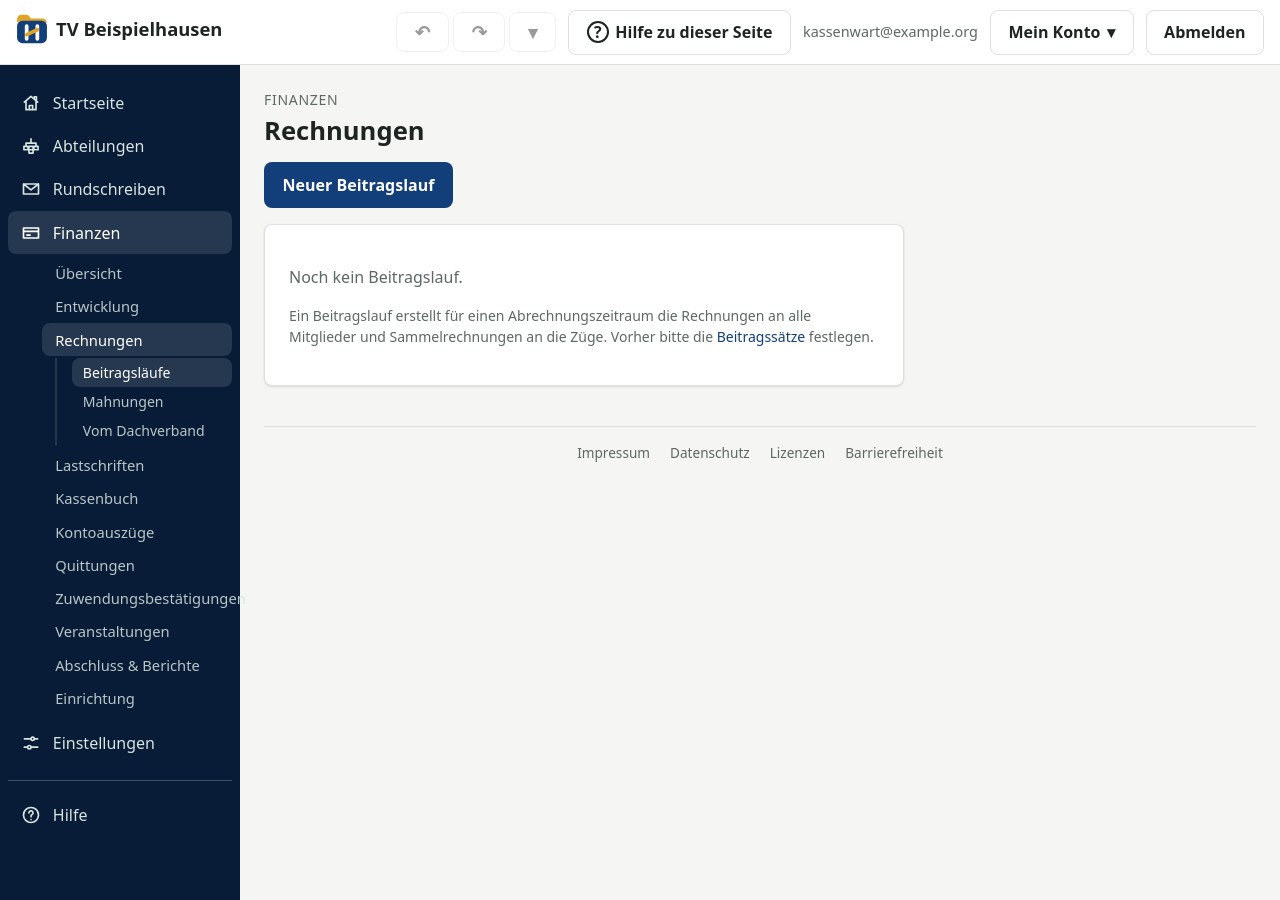
Test case: Beiträge › berechnet die Vorschau eines Beitragslaufs und legt ihn an
Click the button "Neuer Beitragslauf" at coordinates (358, 185), box [264,162,453,208]
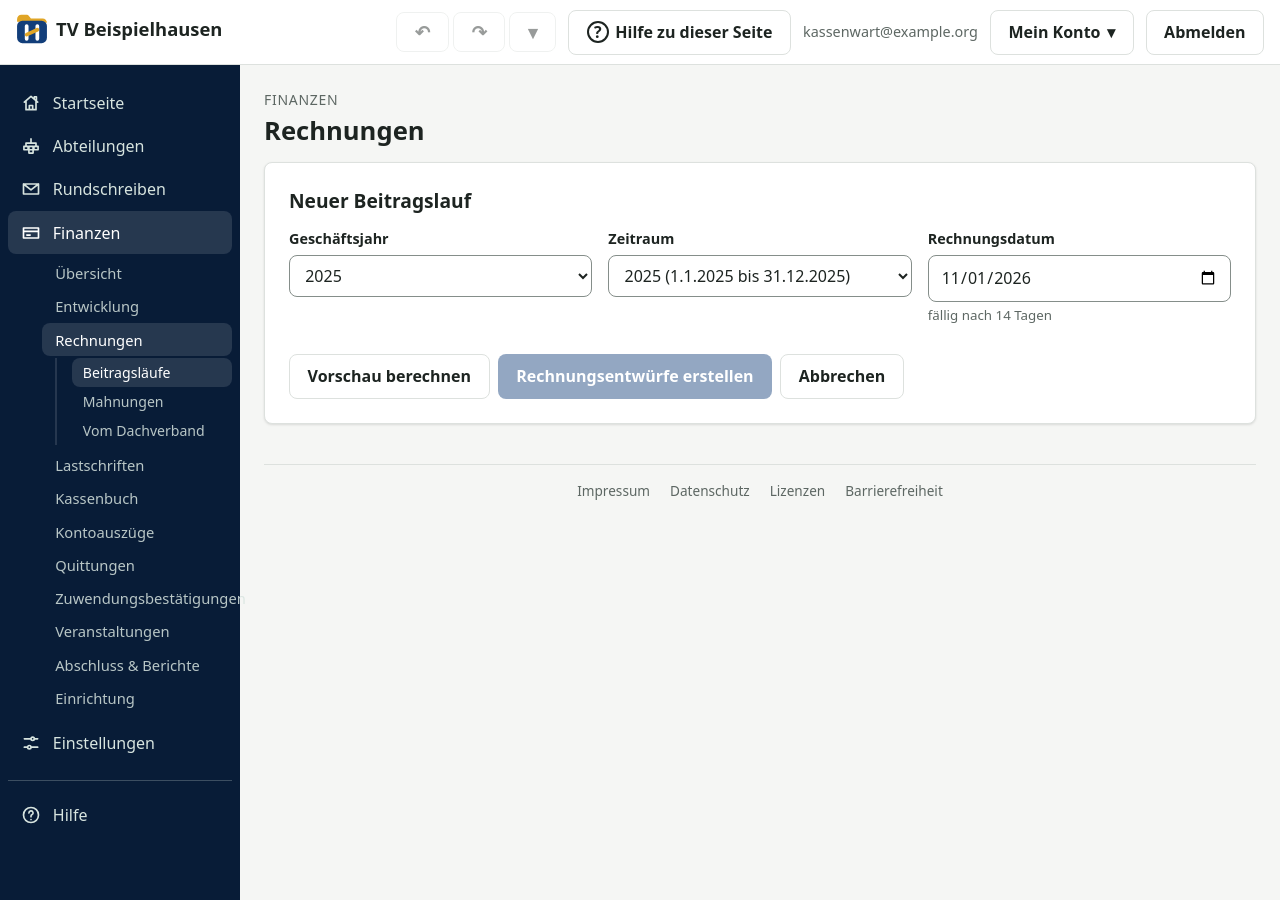
Click the button "Vorschau berechnen" at coordinates (389, 376), box [289,354,490,399]
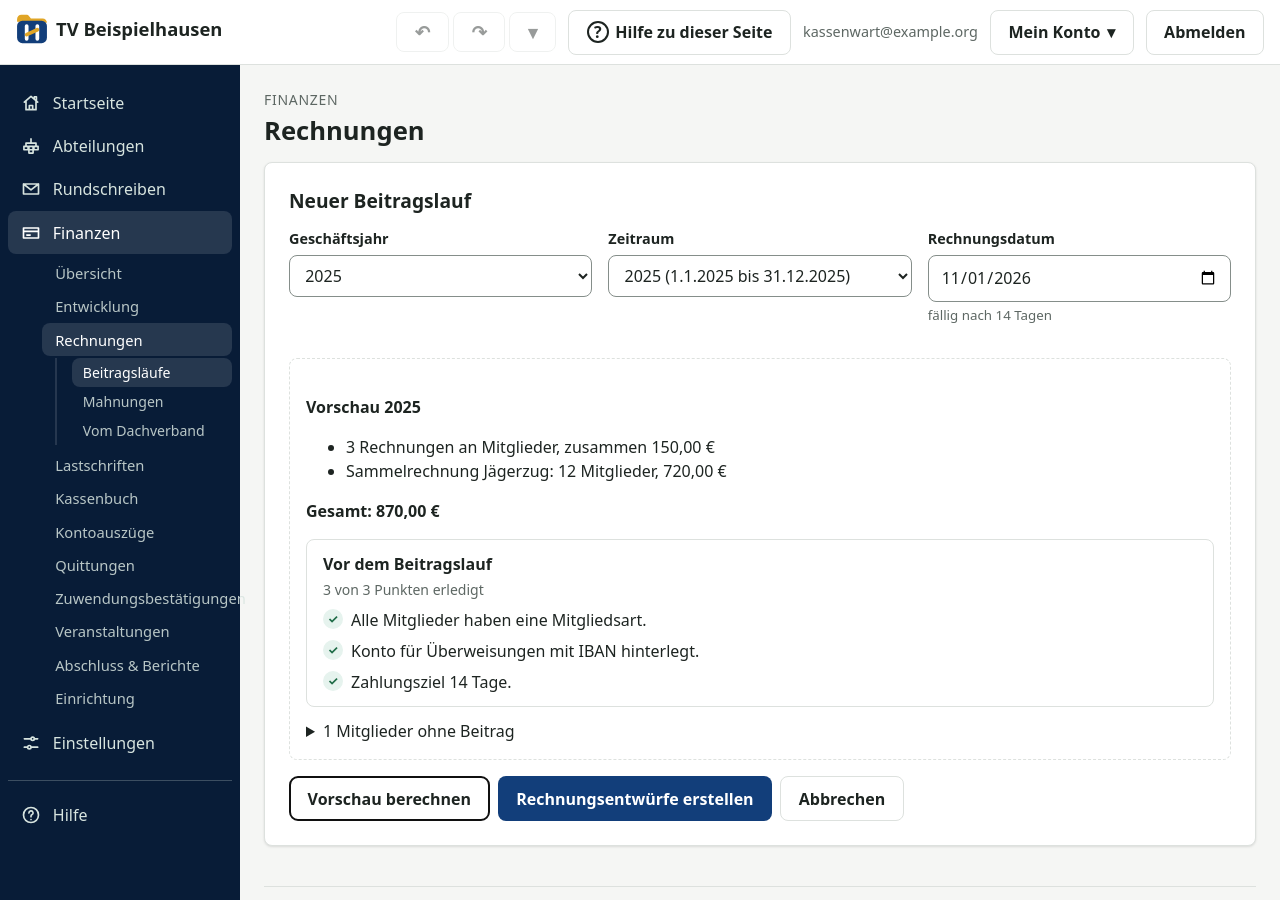
Check: the list item "Sammelrechnung Jägerzug: 12 Mitglieder, 720,00 €" is shown, box [346,460,727,482]
Check: the text "Gesamt: 870,00 €" is shown, box [306,500,440,522]
Click the button "Rechnungsentwürfe erstellen" at coordinates (635, 799), box [498,776,772,822]
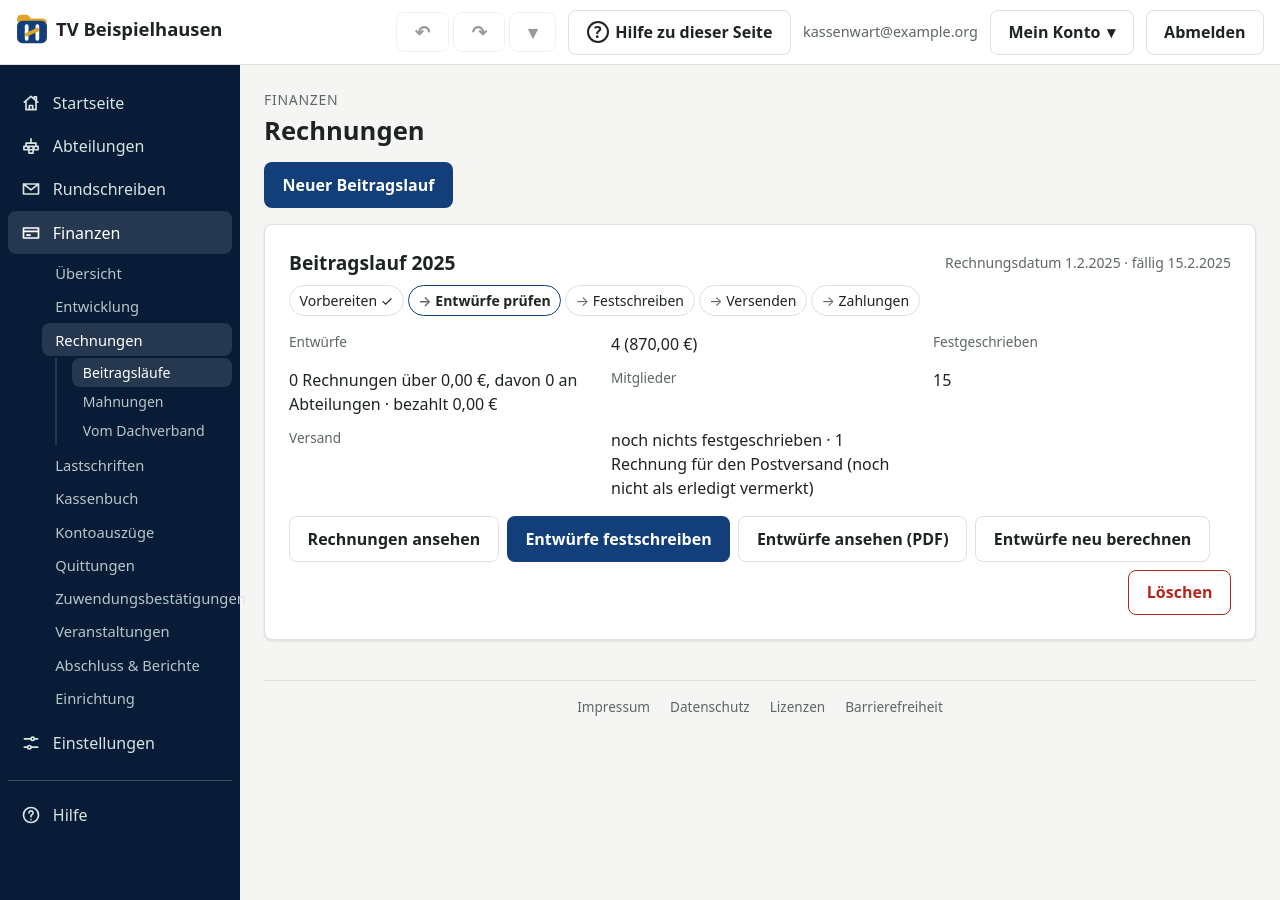
Check: the button "Entwürfe festschreiben" is shown, box [507,516,730,562]
